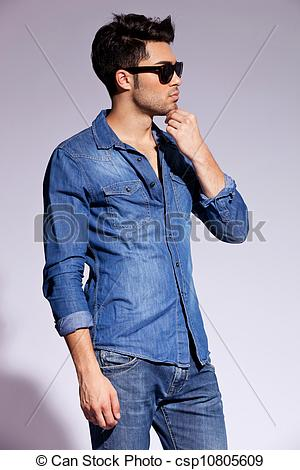jeans: (85, 325, 229, 448)
sunglasses: (119, 60, 188, 83)
